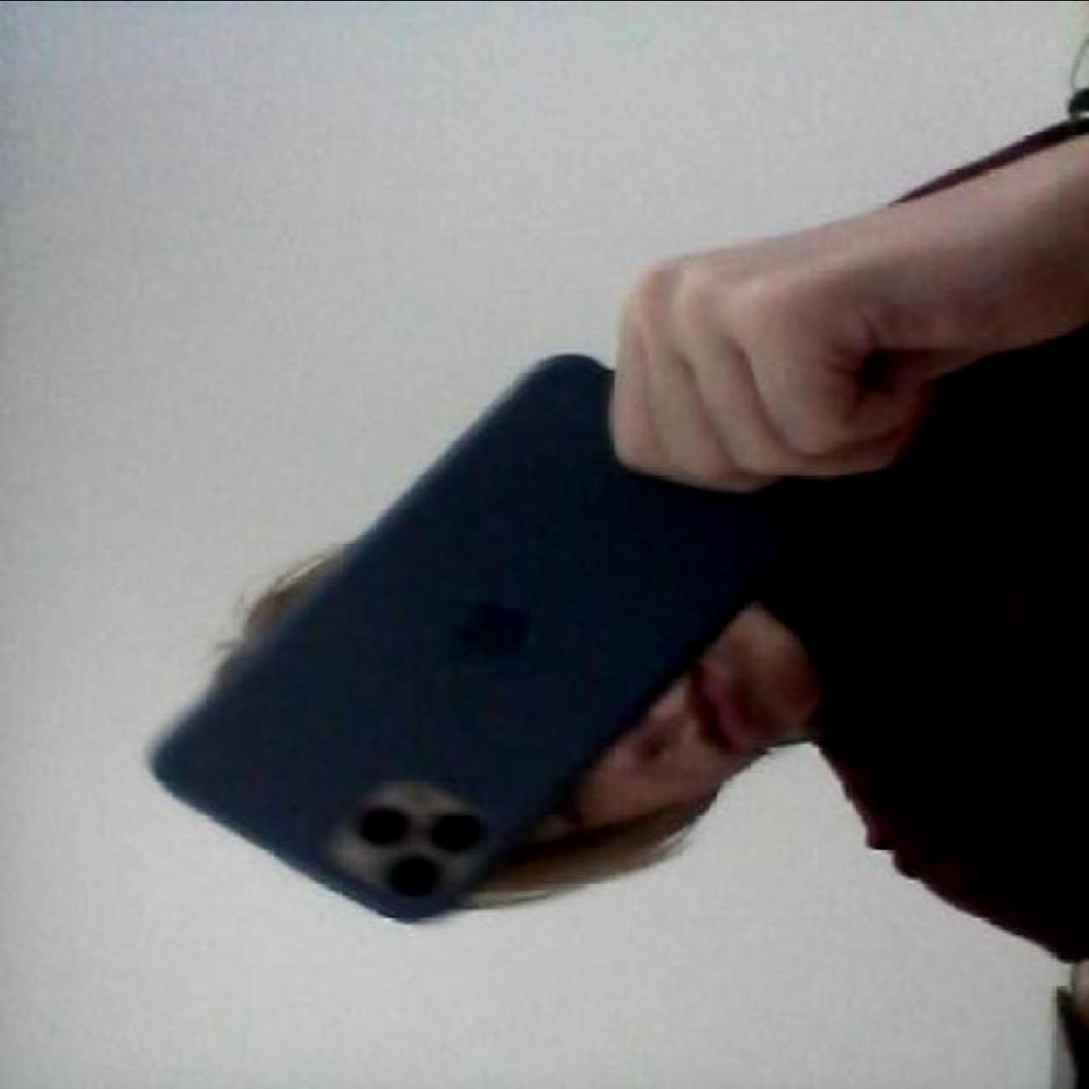phone: (127, 339, 835, 927)
